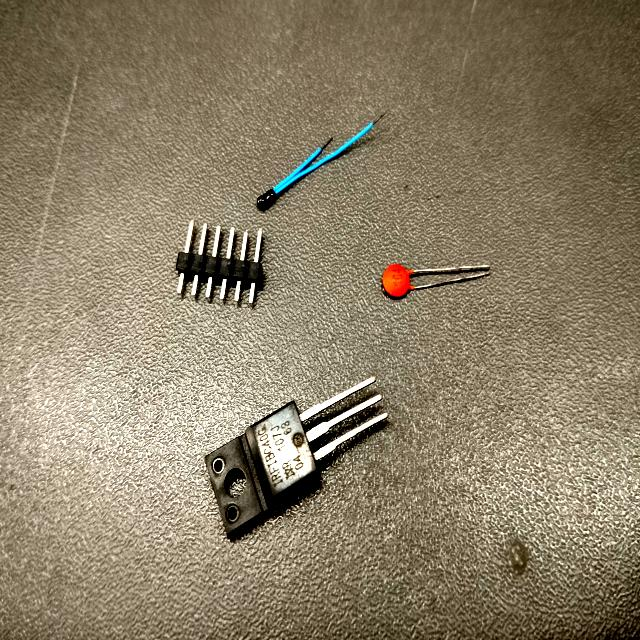capacitor: (381, 263, 469, 300)
